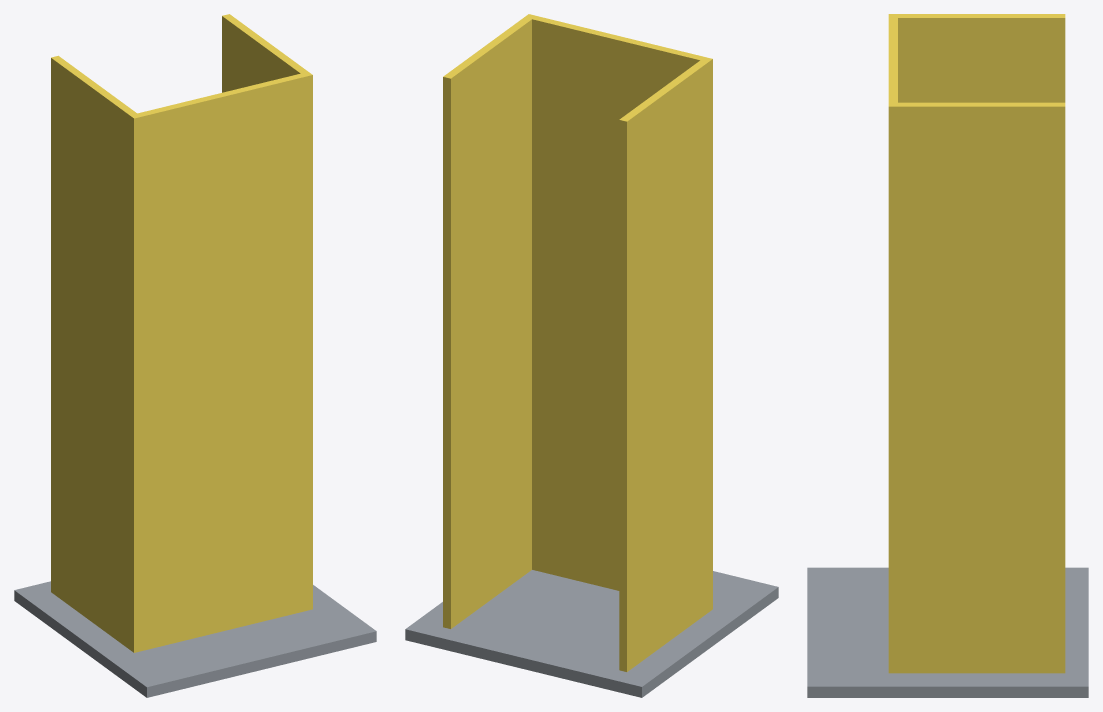
The model's file is tope_proteccion_rack.glb.
The picture shows the model from 3 angles, left to right: view 1: azimuth 30°, elevation 25°; view 2: azimuth 150°, elevation 25°; view 3: azimuth 270°, elevation 25°; orthographic projection. The views are drawn at different scales.
Visible parts, largest first — view 1: tope_proteccion_rack; view 2: tope_proteccion_rack; view 3: tope_proteccion_rack.
Boxes of the visible parts, bbox=[...] form: tope_proteccion_rack: bbox=[14, 14, 376, 697]; tope_proteccion_rack: bbox=[405, 14, 778, 697]; tope_proteccion_rack: bbox=[807, 14, 1088, 697].
Bounding box in the file's own units: 0.18 × 0.408 × 0.18.
